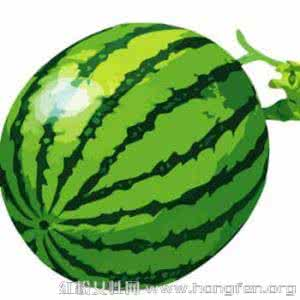pineapple: (1, 24, 294, 282)
watermelon: (7, 17, 296, 283)
